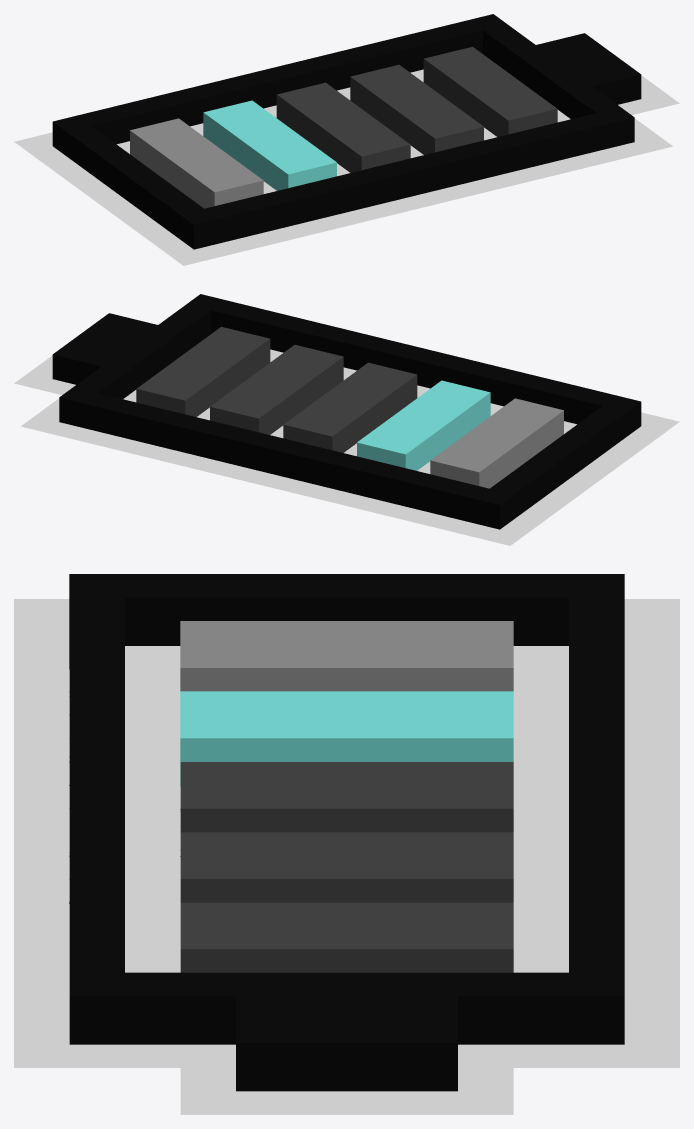
File: DOT_O.fbx
The picture shows the model from 3 angles, top to bottom: view 1: azimuth 30°, elevation 25°; view 2: azimuth 150°, elevation 25°; view 3: azimuth 270°, elevation 25°; orthographic projection. The views are drawn at different scales.
Parts seen in each view (by area): view 1: Plane; view 2: Plane; view 3: Plane.
Boxes of the visible parts, x1=… form: Plane: x1=14, y1=14, x2=679, y2=265; Plane: x1=14, y1=294, x2=679, y2=545; Plane: x1=14, y1=574, x2=679, y2=1114.
Size of the model in its own units: 0.0204 by 0.000893 by 0.0112.
